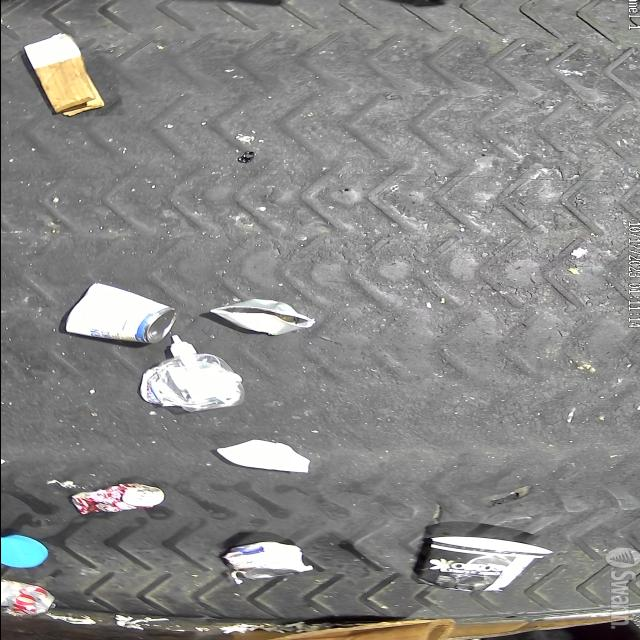can: (65, 283, 177, 343), (210, 298, 315, 336), (69, 482, 163, 516), (222, 543, 303, 579), (0, 580, 56, 618)
